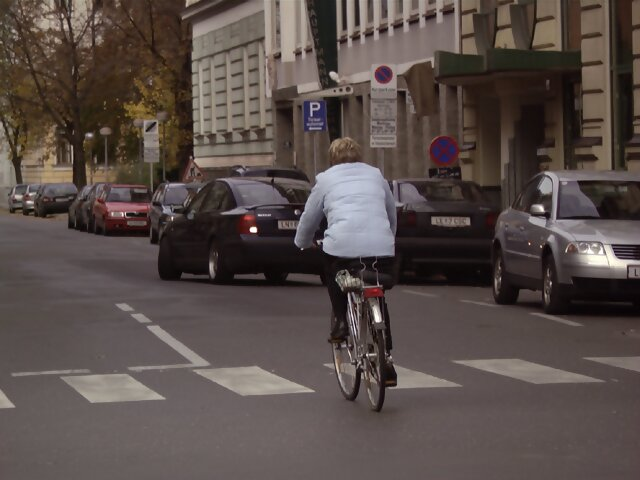person: (294, 131, 399, 385)
